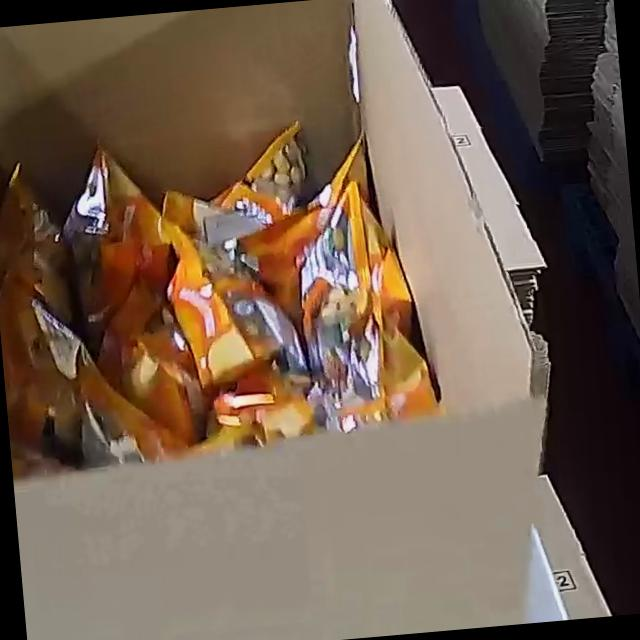cheese: (0, 105, 444, 476)
